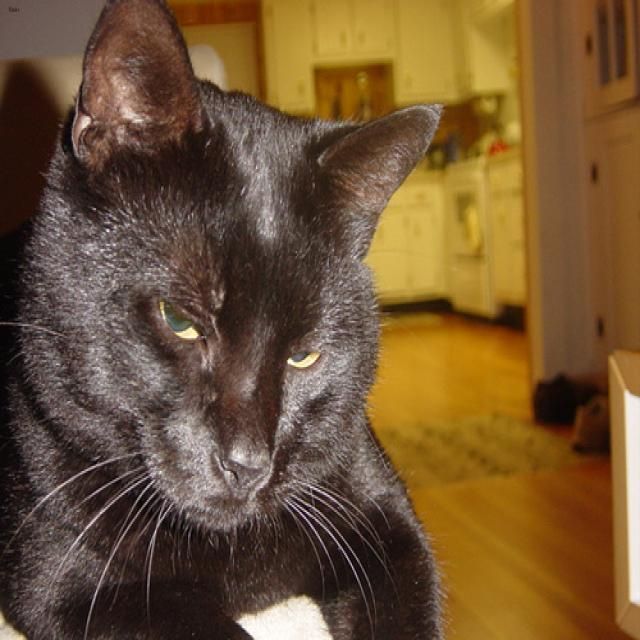Bombay: (25, 19, 433, 540)
